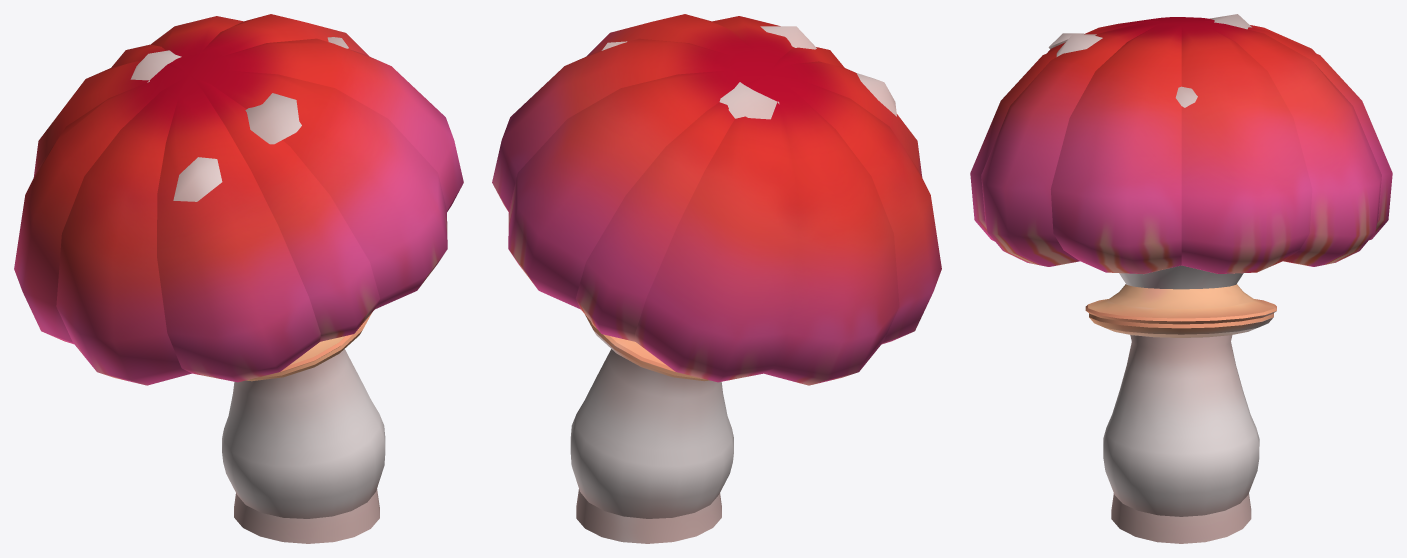
File: Interaction_mushroom_S.fbx
The picture shows the model from 3 angles, left to right: view 1: azimuth 30°, elevation 25°; view 2: azimuth 150°, elevation 25°; view 3: azimuth 270°, elevation 25°; orthographic projection. The views are drawn at different scales.
Visible parts, largest first — view 1: Object001; view 2: Object001; view 3: Object001.
Boxes of the visible parts, x1=… form: Object001: x1=14, y1=14, x2=463, y2=543; Object001: x1=492, y1=14, x2=941, y2=543; Object001: x1=970, y1=14, x2=1392, y2=543.
Bounding box in the file's own units: 1.22 × 1.5 × 1.26.
